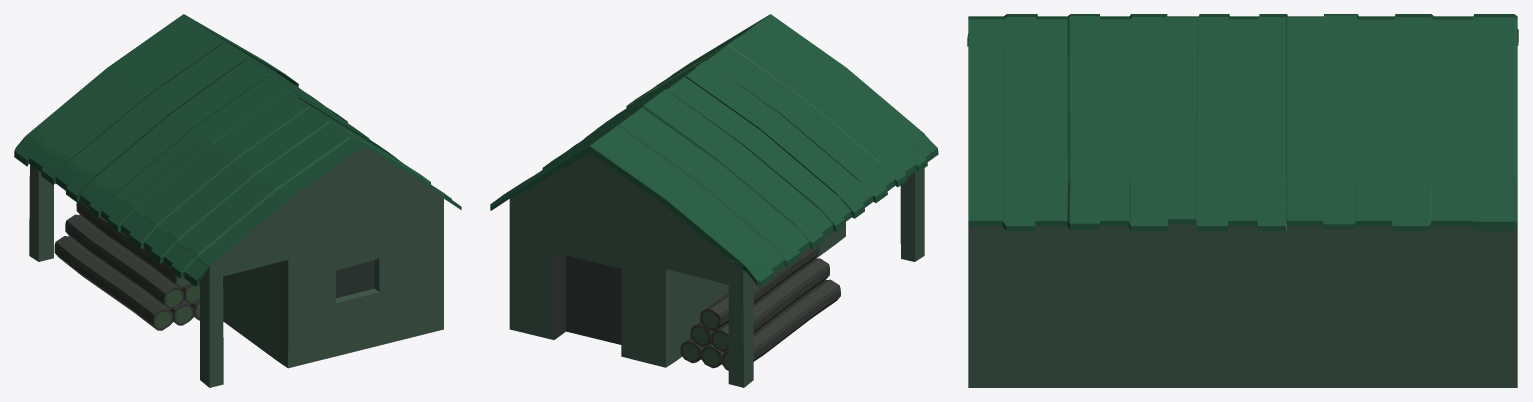
The model's file is NEW_loggingCamp.fbx.
3 renders of one model, left to right at view 1: azimuth 30°, elevation 25°; view 2: azimuth 150°, elevation 25°; view 3: azimuth 270°, elevation 25°, orthographic. The views are drawn at different scales.
Visible parts, largest first — view 1: loggingCamp; view 2: loggingCamp; view 3: loggingCamp.
Boxes of the visible parts, x1,y1,x2,y2 form: loggingCamp: (14,14,461,387); loggingCamp: (490,14,938,387); loggingCamp: (967,14,1518,387).
Bounding box in the file's own units: 2429 × 1768 × 2811.
